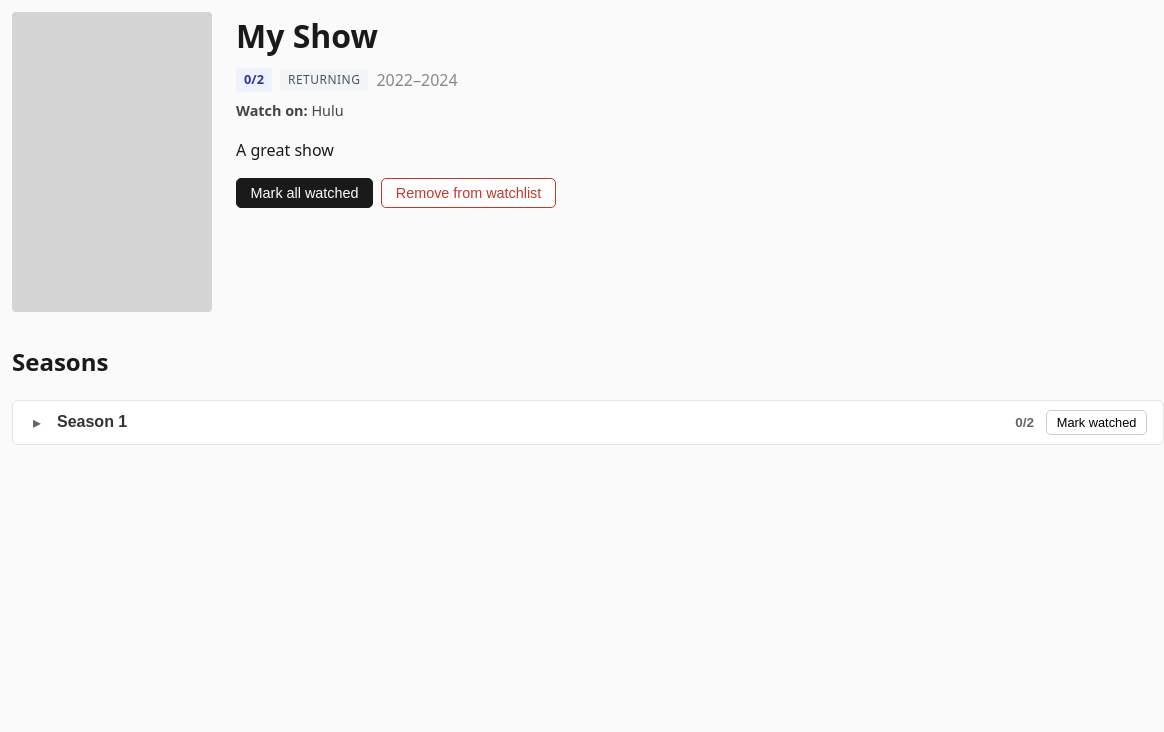
ShowDetail › shows generic update error for non-Error rejection
Expected: the heading "My Show" is shown, 236,14 -> 378,57
Click the button "▸ Season 1 0/2": (92, 422) 29,409 -> 1034,436
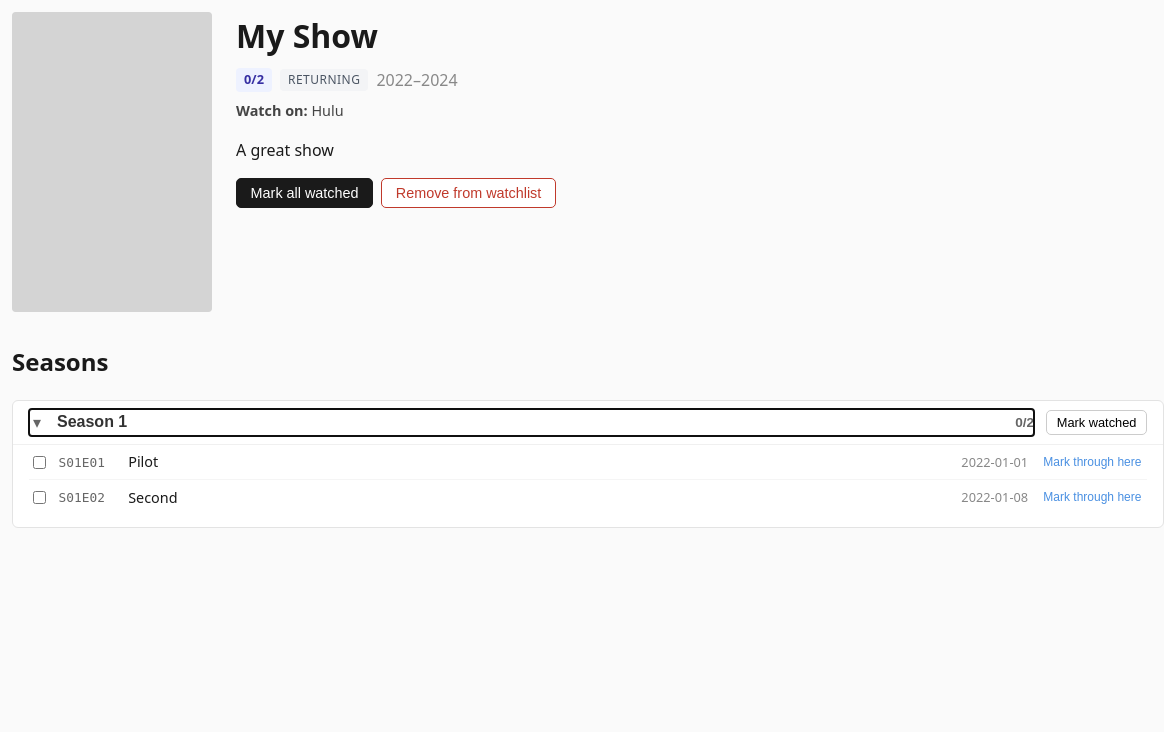
Click the checkbox named "Mark S1E1 watched": (40, 462) 33,456 -> 46,469
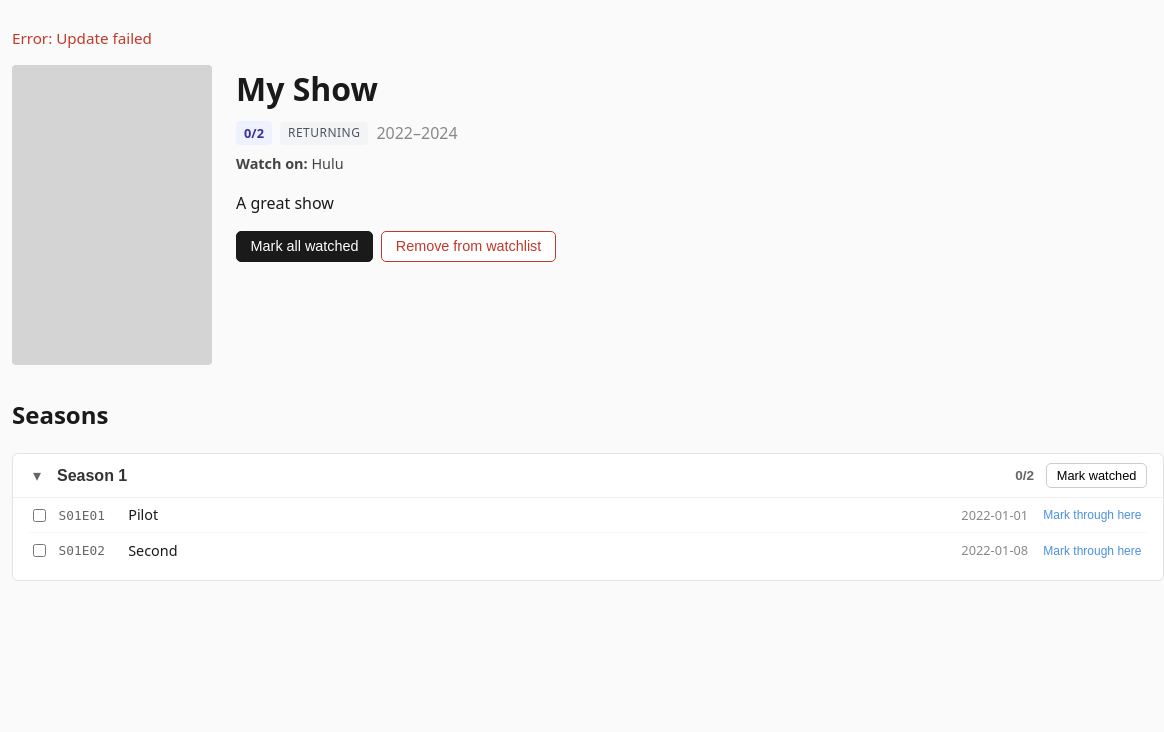
Now the text "Error: Update failed" is shown, box 12,28 -> 152,48
